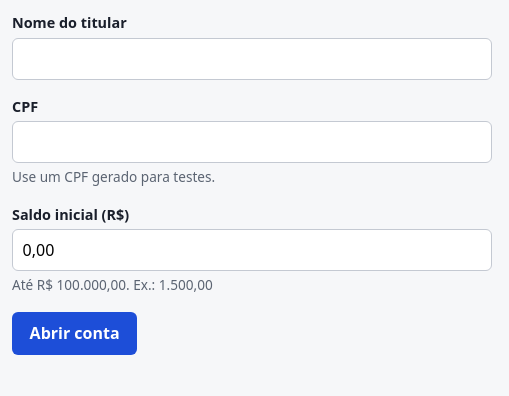
Test: AccountForm › [WEB-AC-02] dados válidos chamam a action; erro devolvido aparece junto do campo
Type "Maria Teste" into the field labelled "Nome do titular" at (252, 59), box [12,38,492,80]
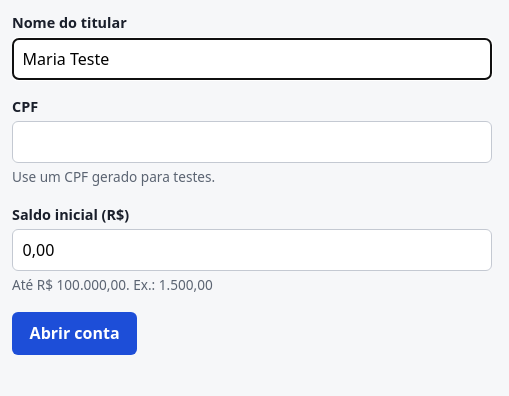
Type "52998224725" into the field labelled "CPF" at (252, 142), box [12,121,492,163]
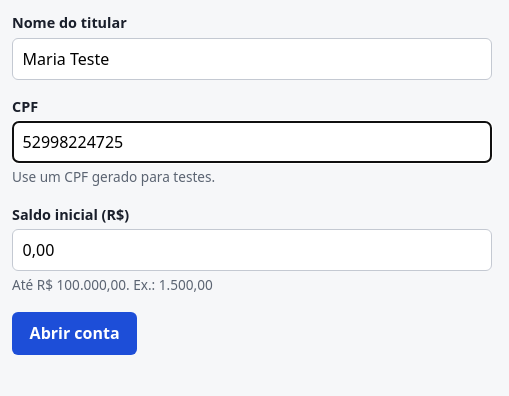
Replace the text in the field labelled "Saldo inicial (R$)" with "10,00" at (252, 250), box [12,229,492,271]
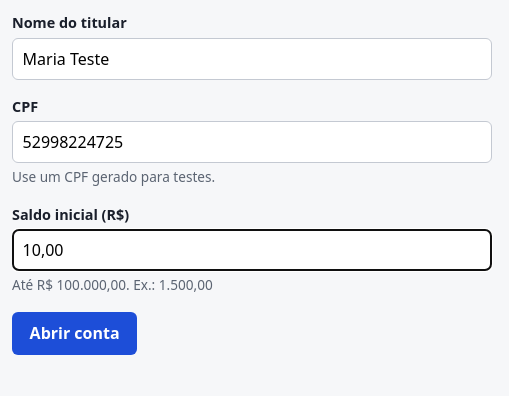
Click the button "Abrir conta" at (75, 333), box [12,312,137,355]
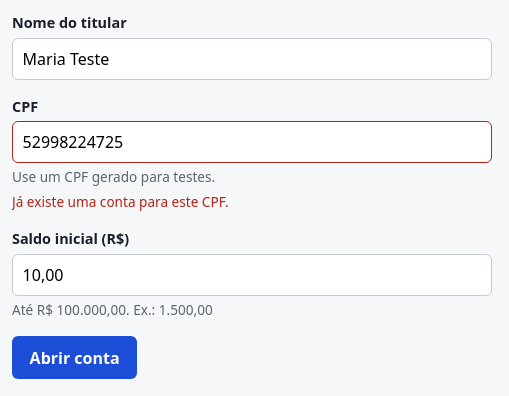
Result: the text "Já existe uma conta para este CPF." is shown at [12,192,228,211]
